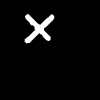single_crochet: (25, 14, 53, 42)
